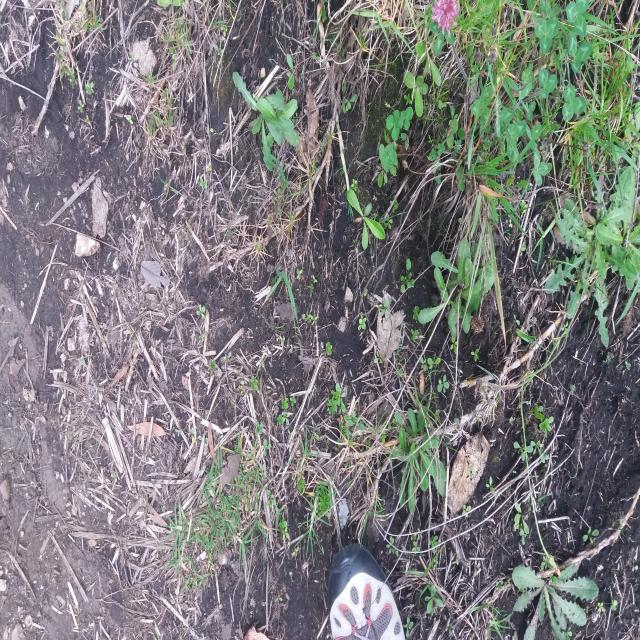Four Leaf Clover: (291, 332, 313, 365), (386, 110, 403, 141)
